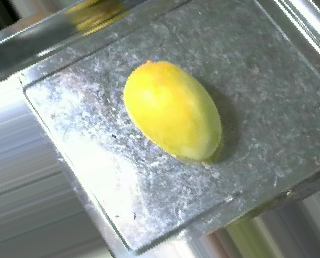Mango: (122, 51, 222, 164)
